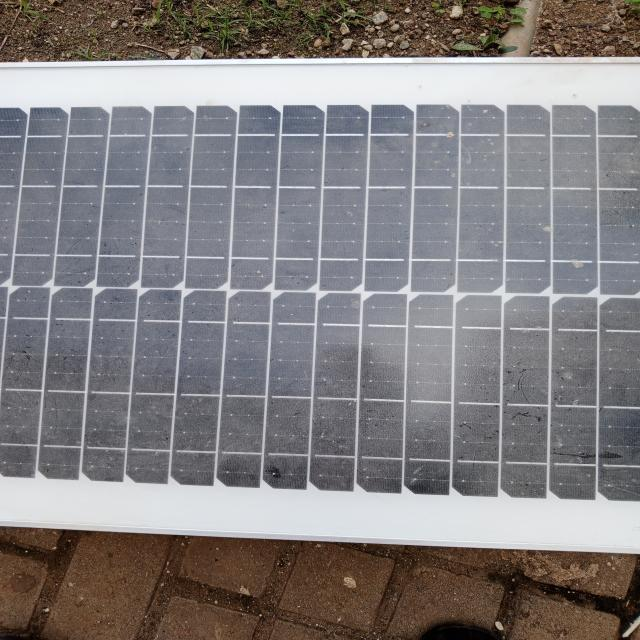Anomaly Solar Panel: (0, 68, 640, 532)
Surface Contaminant: (14, 80, 639, 505)
